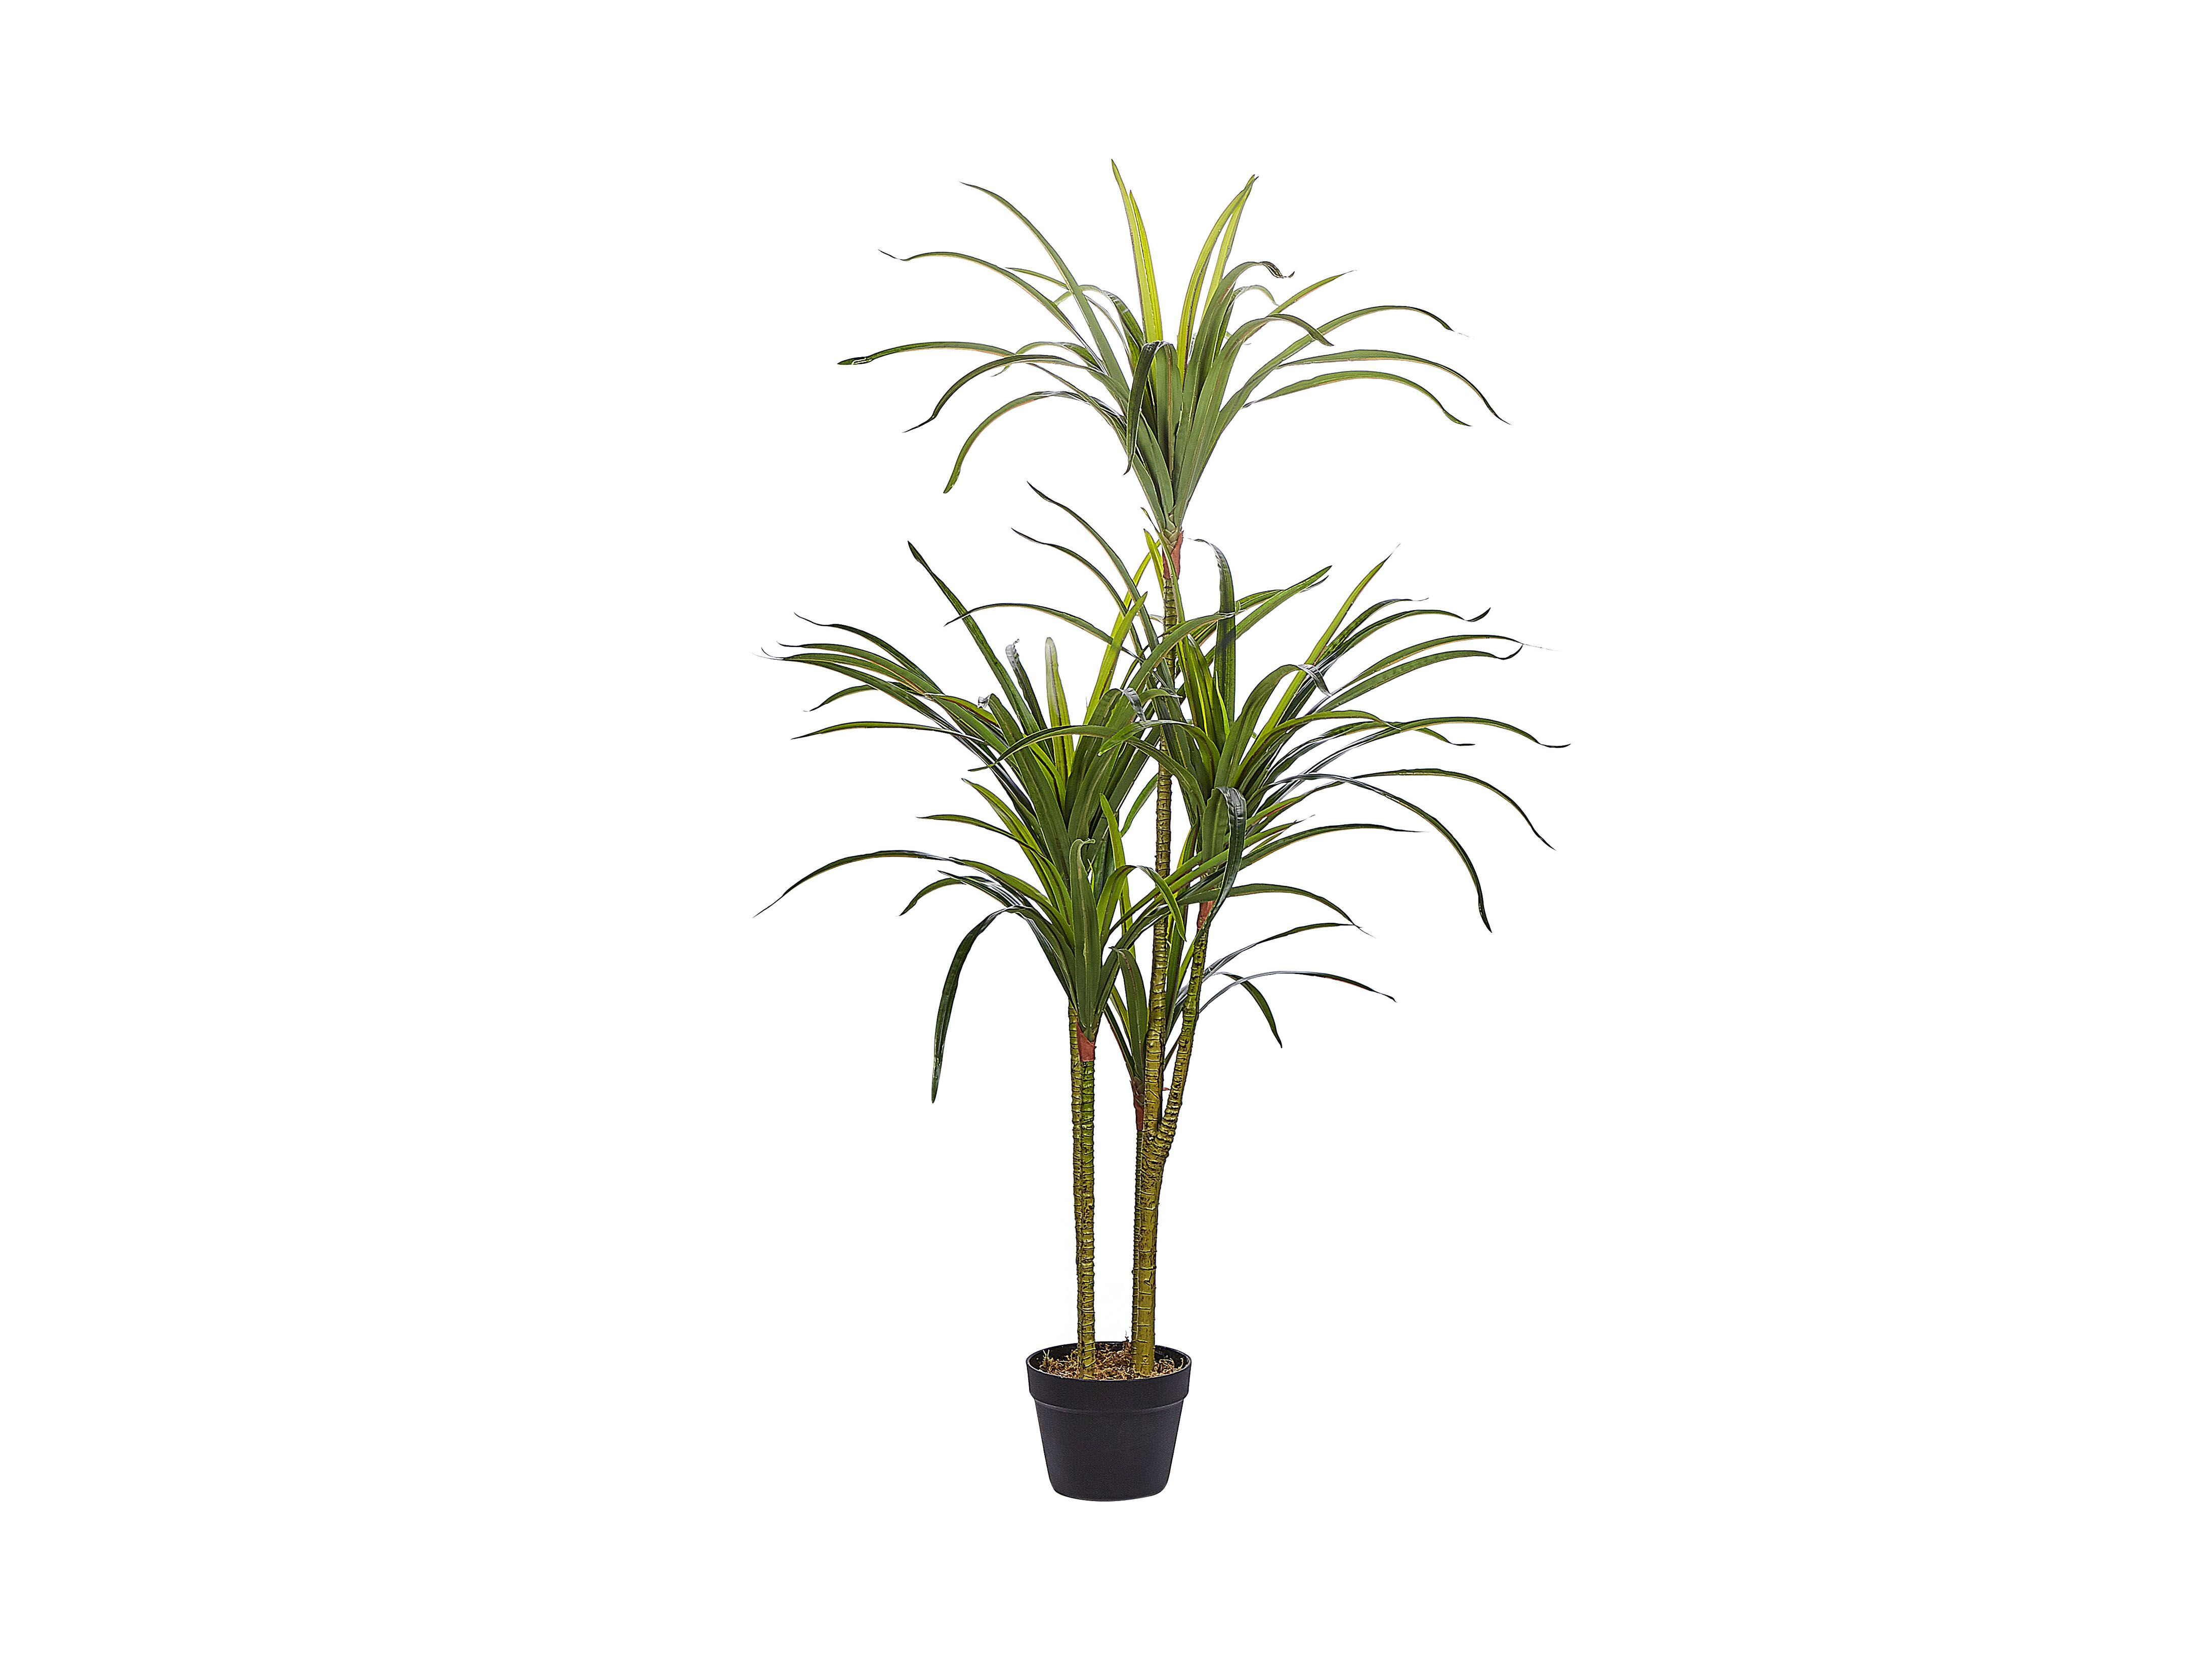tanaman: (777, 159, 1501, 1532)
